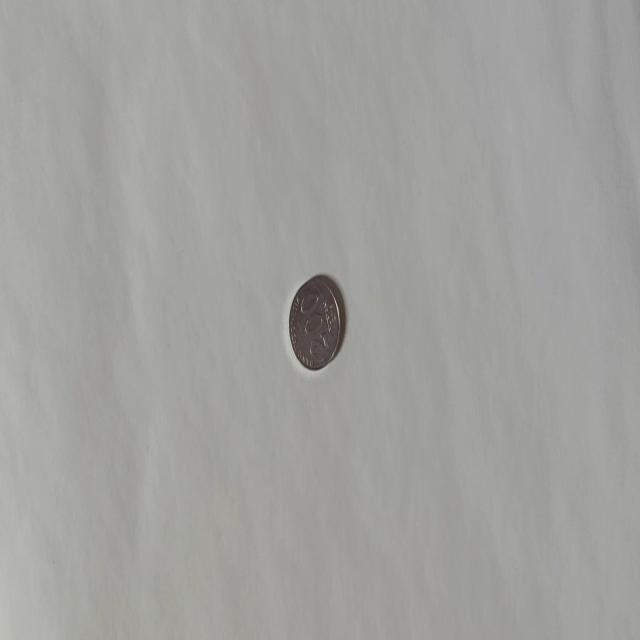dua ratus rupiah: (288, 273, 340, 371)
